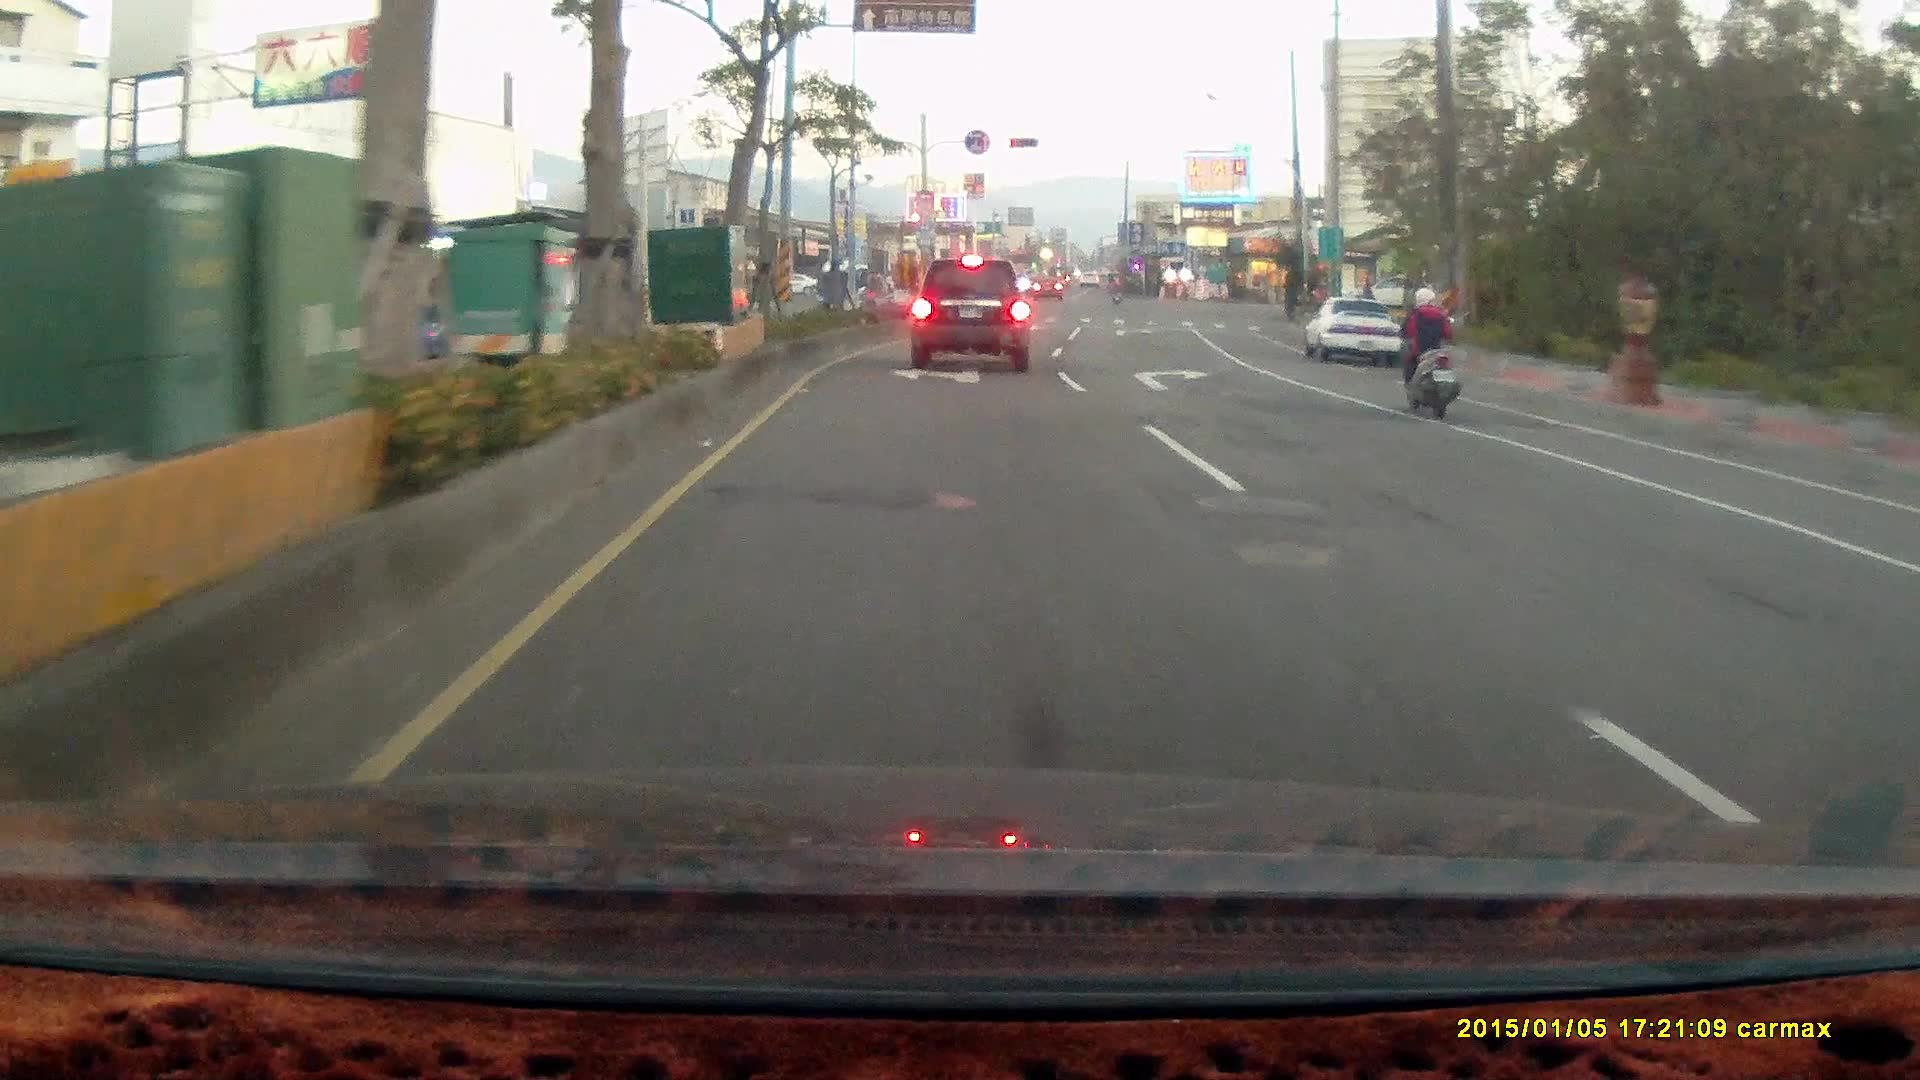rider: (1385, 277, 1462, 414)
vehicle: (908, 256, 1029, 373), (1896, 493, 1920, 836), (1306, 295, 1407, 369), (1301, 293, 1402, 366), (1883, 528, 1920, 690), (1342, 273, 1425, 310)
